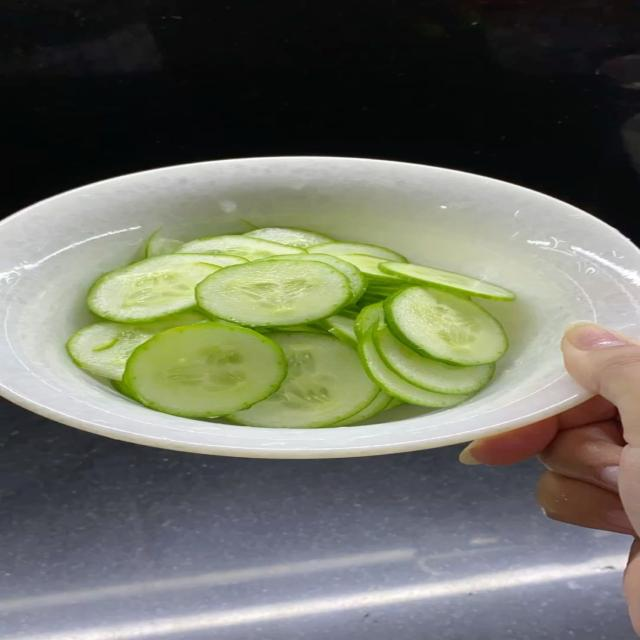cucumber sliced: (124, 322, 286, 417), (229, 332, 379, 428), (197, 260, 351, 326), (384, 287, 507, 365), (67, 312, 208, 380), (87, 254, 219, 322), (359, 328, 468, 408), (374, 327, 494, 394), (266, 253, 366, 303), (380, 263, 515, 300), (177, 235, 306, 260), (331, 390, 393, 427), (309, 242, 406, 262), (340, 254, 404, 284), (245, 228, 333, 248), (320, 315, 357, 346), (145, 228, 183, 257), (354, 302, 383, 339), (205, 254, 248, 267), (265, 325, 326, 333), (111, 380, 135, 400), (385, 398, 405, 411), (340, 306, 359, 319)
